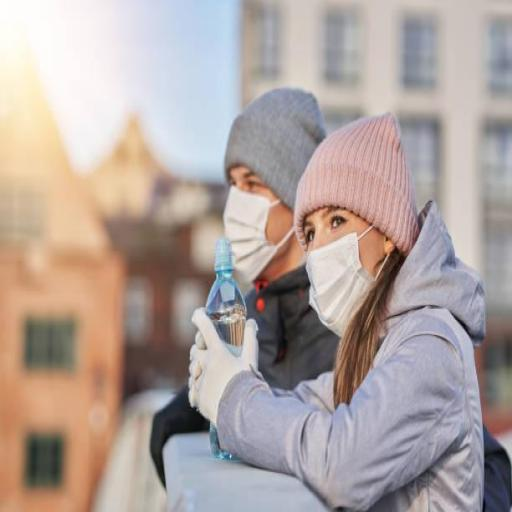mask: (301, 182, 383, 334), (219, 135, 283, 290)
